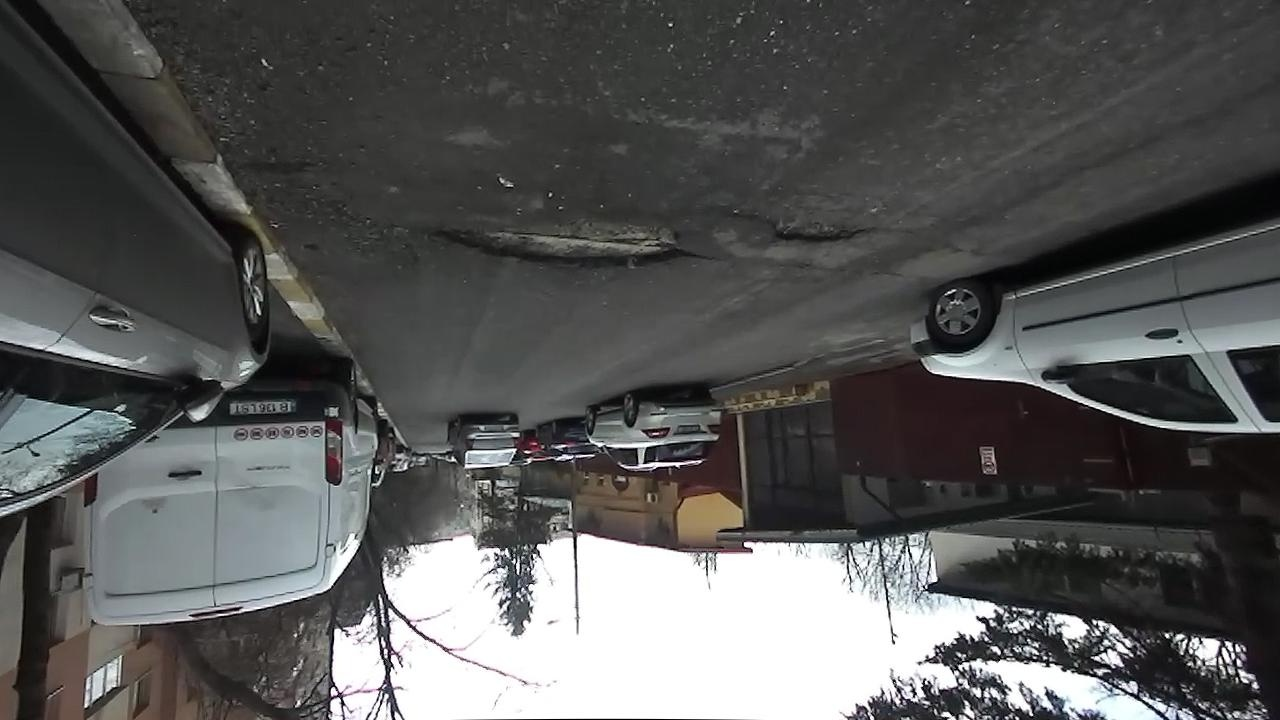pothole: (420, 213, 697, 272), (730, 207, 869, 248)
